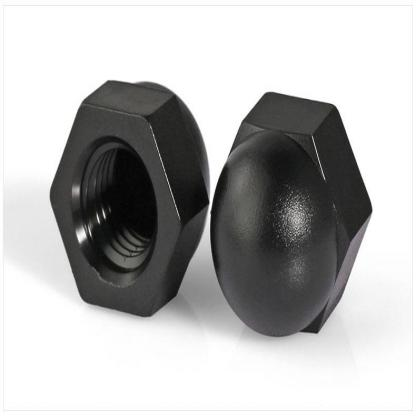FOD: (210, 89, 372, 339), (48, 79, 210, 321)
